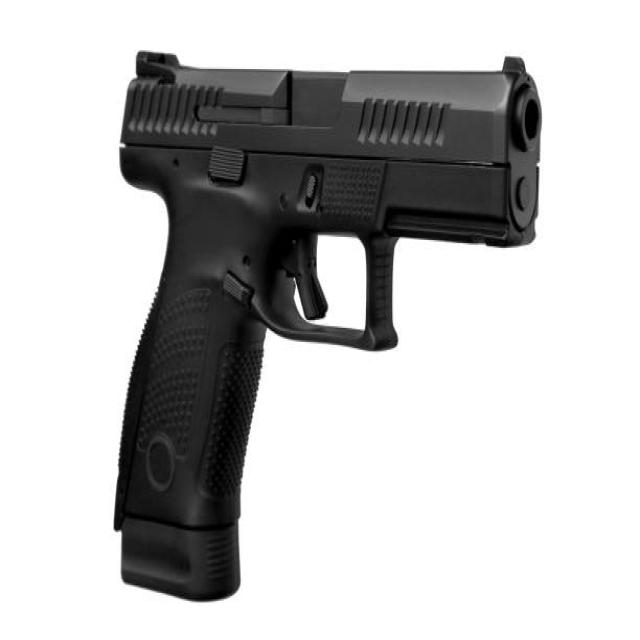pistol: (105, 34, 550, 608)
